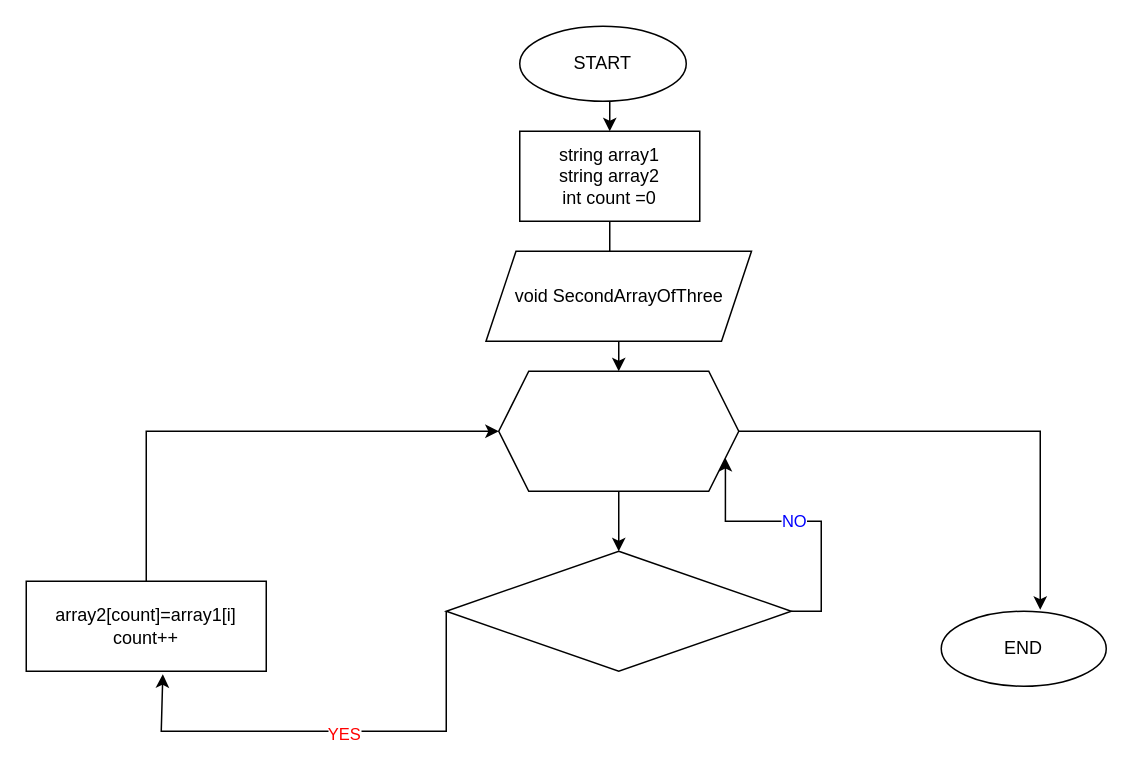
This 1133x770 diagram has some shape labels left out. The shapes that lost their labels are listed below. From the top down, each one's centre as x and y in pixels, then its label:
At point 618,430: "for(int i=0; i<=array1.Length; i++)".
At point 618,610: "if(array1[i].Length <=3".
